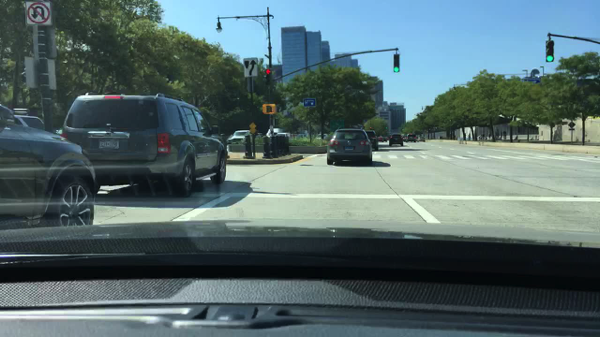car: (59, 91, 228, 198), (0, 104, 97, 230), (326, 128, 373, 165), (227, 130, 261, 145), (364, 130, 379, 151), (266, 128, 289, 137), (389, 134, 404, 147), (406, 134, 417, 143), (317, 133, 327, 140), (295, 133, 308, 138), (417, 137, 426, 142), (378, 135, 383, 143), (383, 137, 387, 143), (385, 135, 389, 140), (402, 135, 405, 140)
person: (503, 132, 506, 140), (467, 133, 470, 140), (479, 134, 482, 140), (488, 133, 490, 139)
traffic light: (545, 40, 554, 62), (265, 66, 272, 86), (263, 103, 275, 114), (393, 54, 400, 72)
traffic sign: (24, 56, 58, 90), (25, 1, 52, 25), (243, 59, 259, 77), (330, 120, 344, 131), (303, 98, 316, 108), (247, 77, 254, 93), (249, 123, 258, 133), (567, 122, 575, 128), (568, 129, 575, 132), (363, 119, 368, 123)
